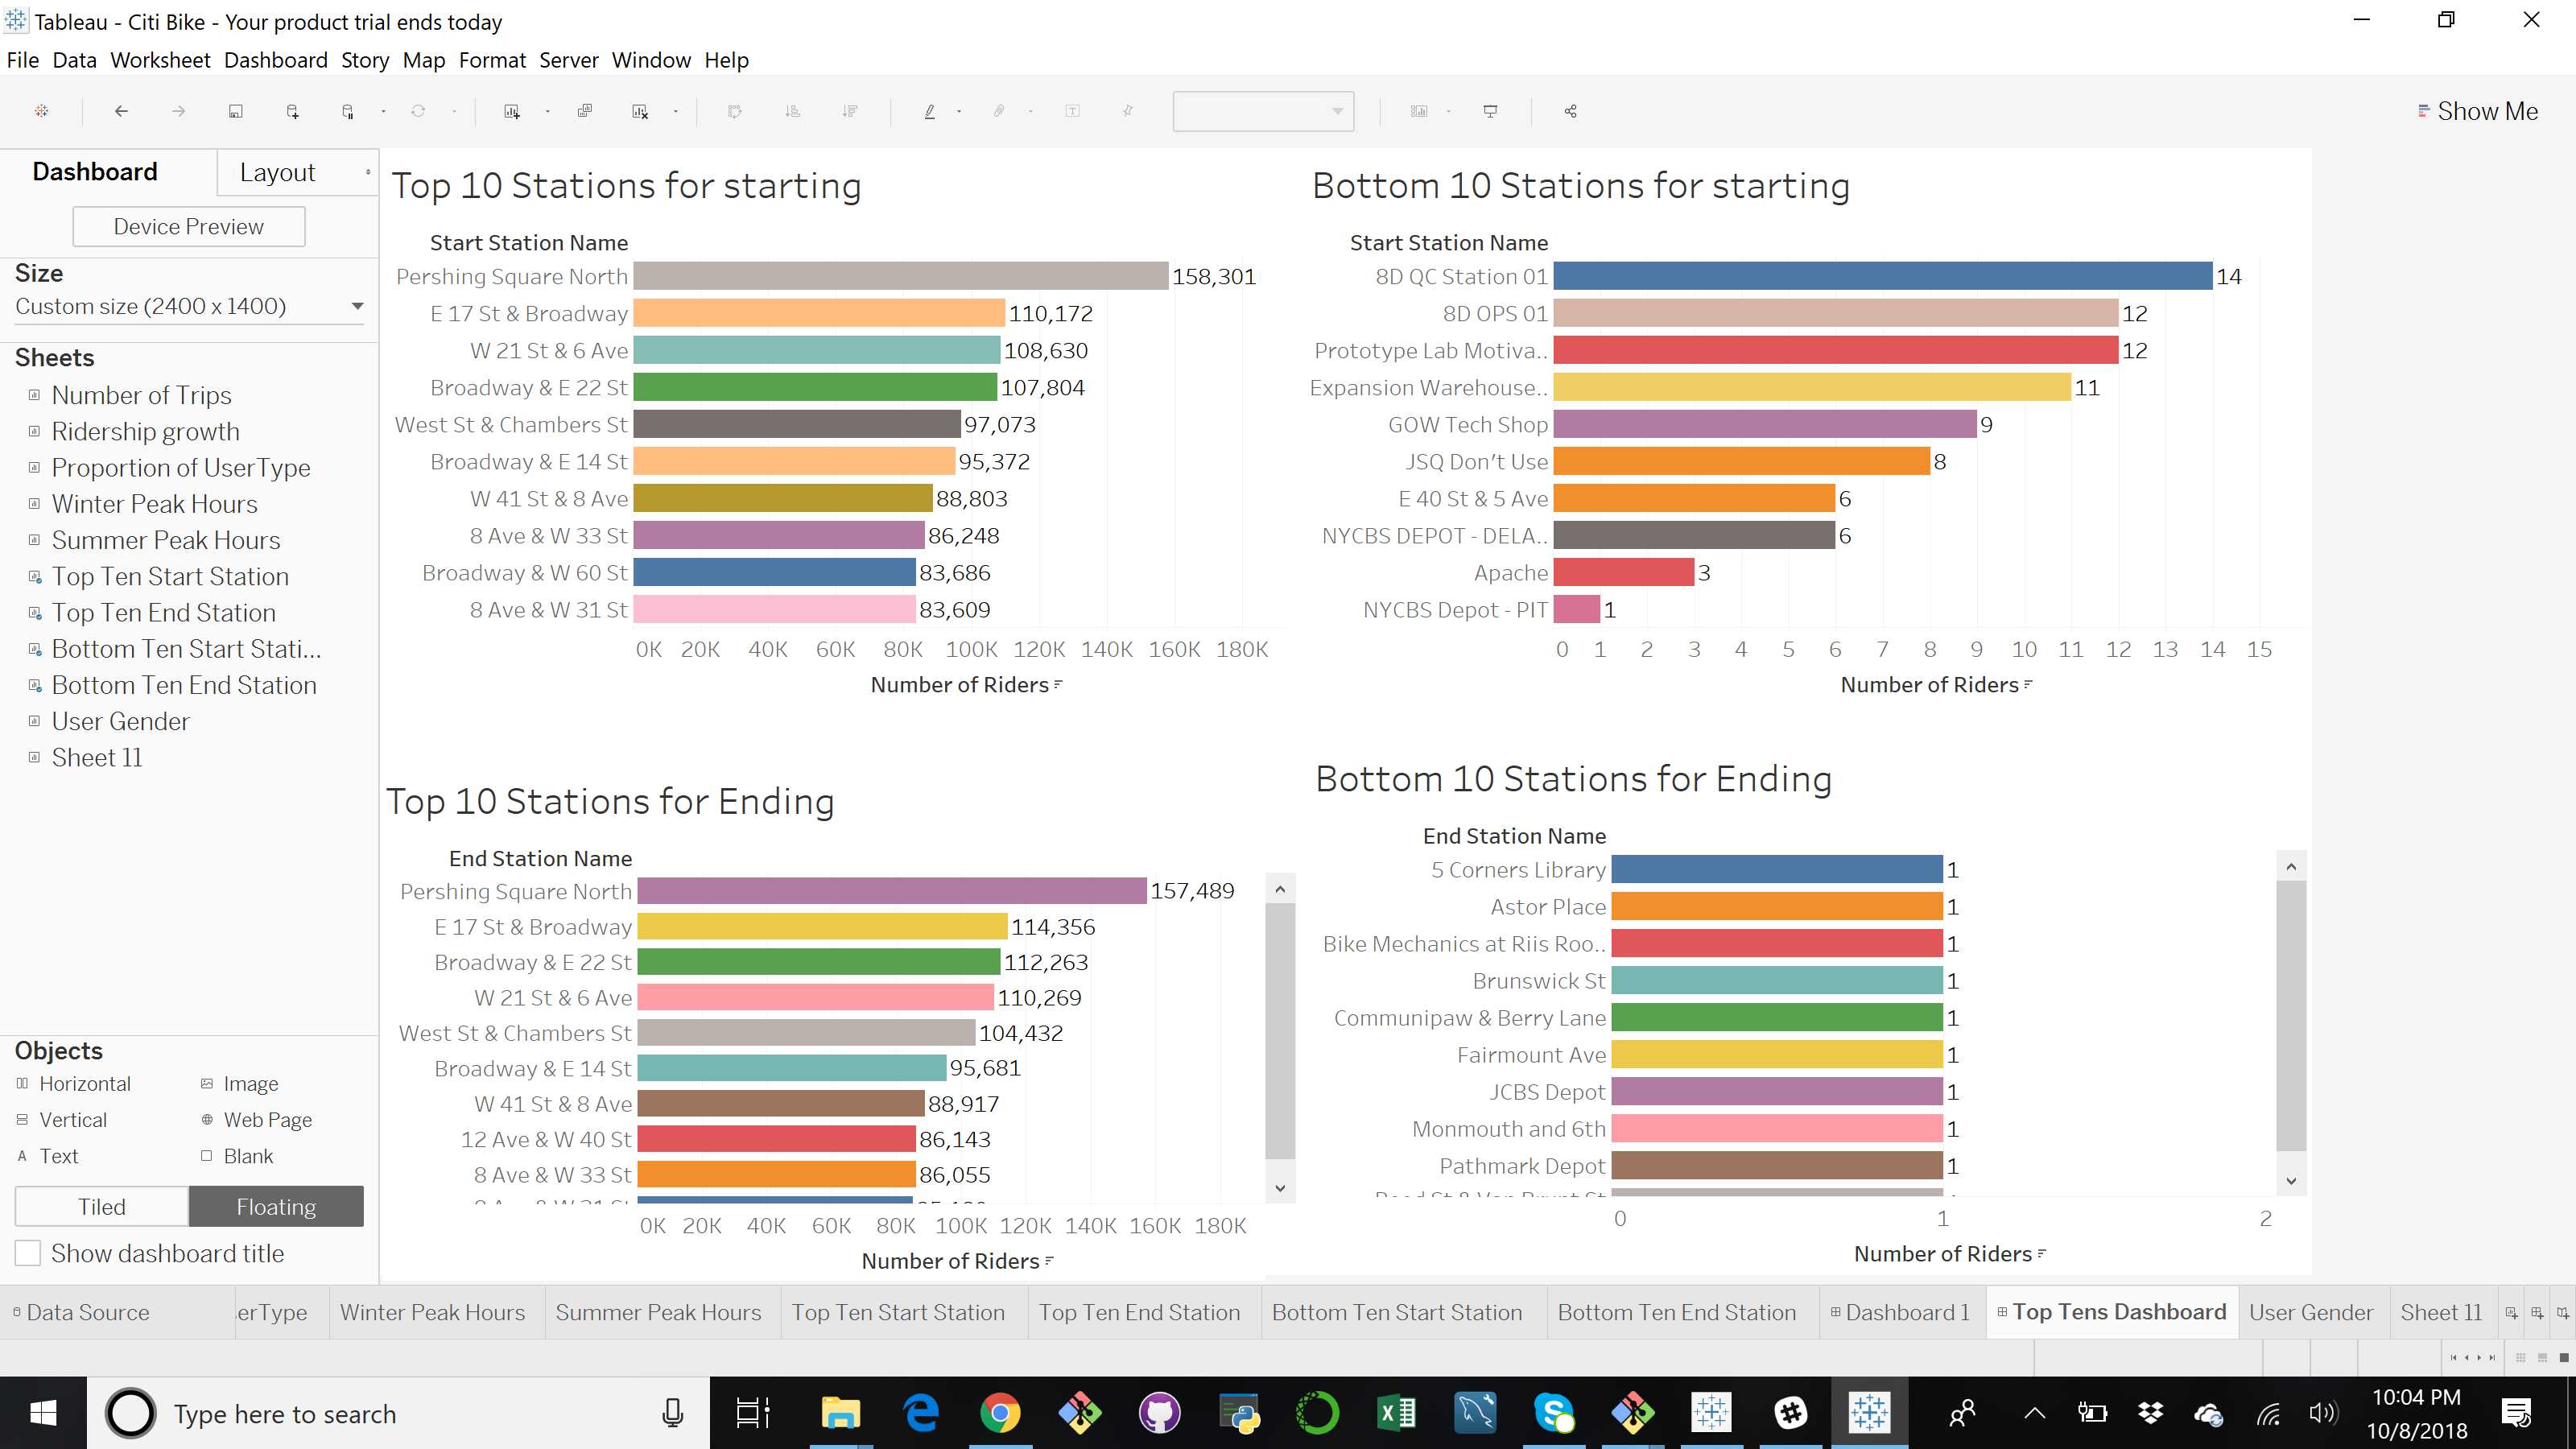

This screenshot's page, from the dashboard's own definition file:
{"tool":"tableau","page":{"name":"Most and least popular stations dashboard","canvas":[2400,1400],"ordinal":0},"visuals":[{"type":"worksheet","title":"Top Ten Start Station","mark":"Automatic","rows":["start station name"],"cols":["Number of Records"],"box":[10,9,1117,691]},{"type":"worksheet","title":"Bottom Ten Start Station","mark":"Automatic","rows":["start station name"],"cols":["Number of Records"],"box":[1153,9,1241,690]},{"type":"worksheet","title":"Bottom Ten End Station","mark":"Automatic","rows":["end station name"],"cols":["Number of Records"],"box":[1157,746,1237,652]},{"type":"worksheet","title":"Top Ten End Station","mark":"Automatic","rows":["end station name"],"cols":["Number of Records"],"box":[3,774,1135,633]}]}

Visuals, with their boxes on the page's 2400x1400 design canvas (x1, y1, x2, y2). These are canvas units, not pixel positions in the 2576x1449 screenshot, which may show the page scaled, cropped or inside an application window:
"Top Ten Start Station" worksheet: <region>10, 9, 1127, 700</region>
"Bottom Ten Start Station" worksheet: <region>1153, 9, 2394, 699</region>
"Bottom Ten End Station" worksheet: <region>1157, 746, 2394, 1398</region>
"Top Ten End Station" worksheet: <region>3, 774, 1138, 1407</region>
